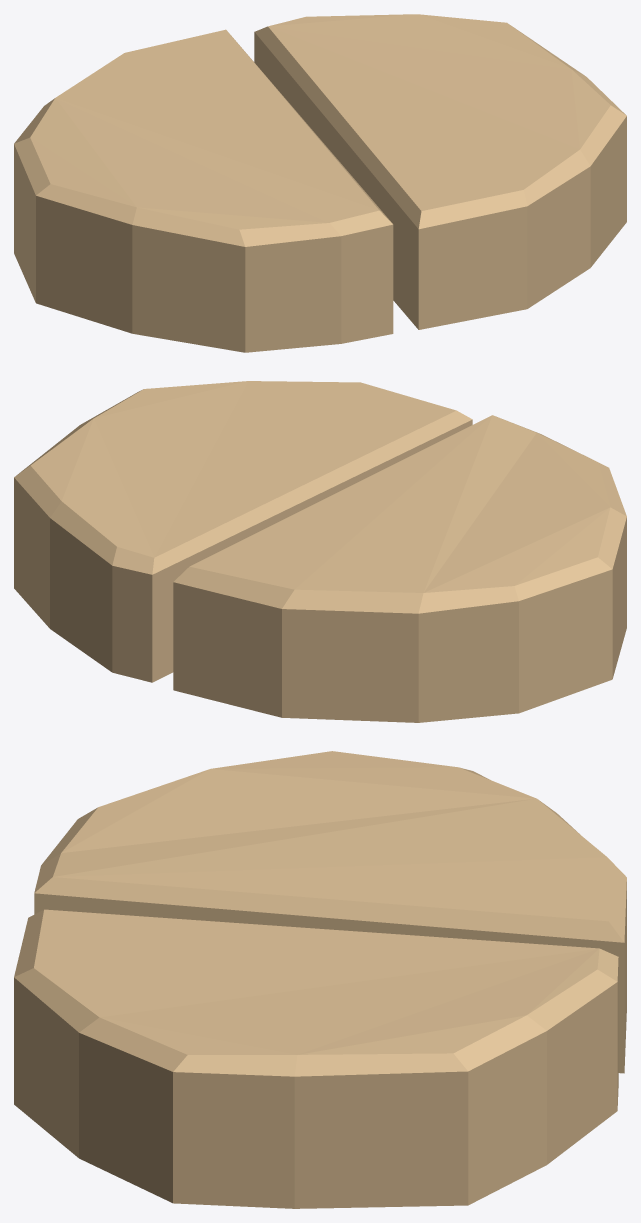
File: terrace_stone_split.fbx
The picture shows the model from 3 angles, top to bottom: view 1: azimuth 30°, elevation 25°; view 2: azimuth 150°, elevation 25°; view 3: azimuth 270°, elevation 25°; orthographic projection. The views are drawn at different scales.
Visible parts, largest first — view 1: Terrace_Stone_Split; view 2: Terrace_Stone_Split; view 3: Terrace_Stone_Split.
Boxes of the visible parts, x1=… form: Terrace_Stone_Split: x1=14, y1=14, x2=626, y2=352; Terrace_Stone_Split: x1=14, y1=381, x2=626, y2=722; Terrace_Stone_Split: x1=14, y1=751, x2=626, y2=1208.
Size of the model in its own units: 92.36 by 19.86 by 74.02.
